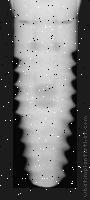BioHorizons: (13, 0, 77, 188)
